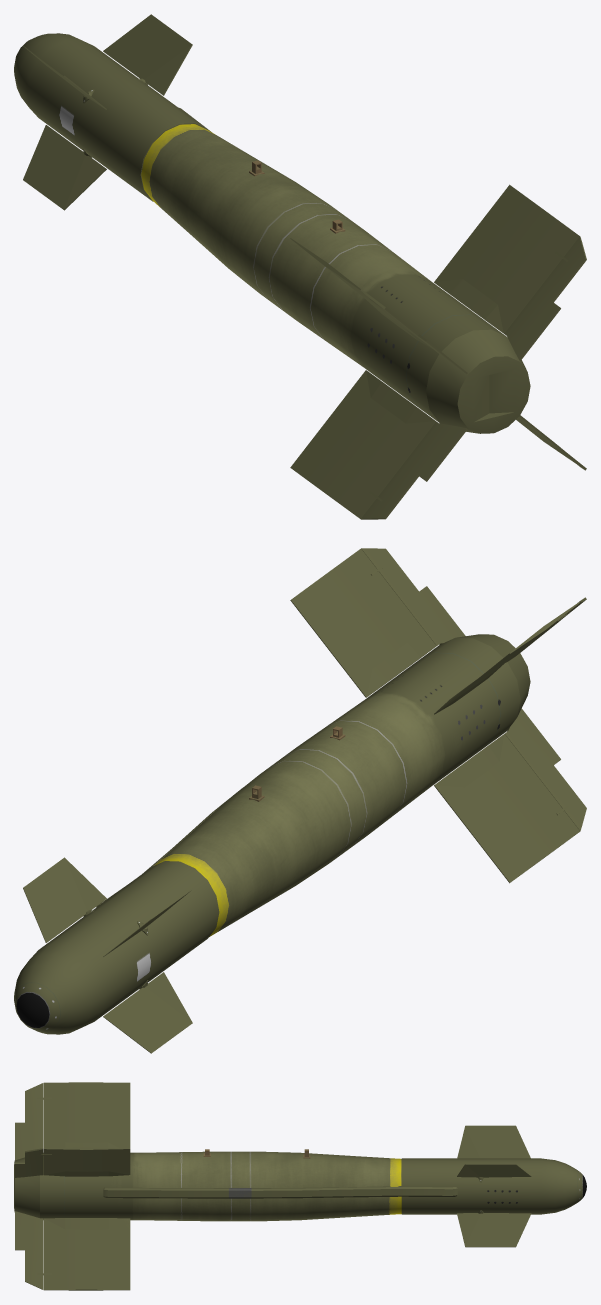
File: Airstrike.fbx
The picture shows the model from 3 angles, top to bottom: view 1: azimuth 30°, elevation 25°; view 2: azimuth 150°, elevation 25°; view 3: azimuth 270°, elevation 25°; orthographic projection. The views are drawn at different scales.
Parts seen in each view (by area): view 1: GBU-15; view 2: GBU-15; view 3: GBU-15.
Boxes of the visible parts, x1,y1,x2,y2 form: GBU-15: [14, 14, 586, 519]; GBU-15: [14, 548, 586, 1053]; GBU-15: [14, 1082, 586, 1290].
Bounding box in the file's own units: 107 × 390 × 107.
1 material, 1 textured.
